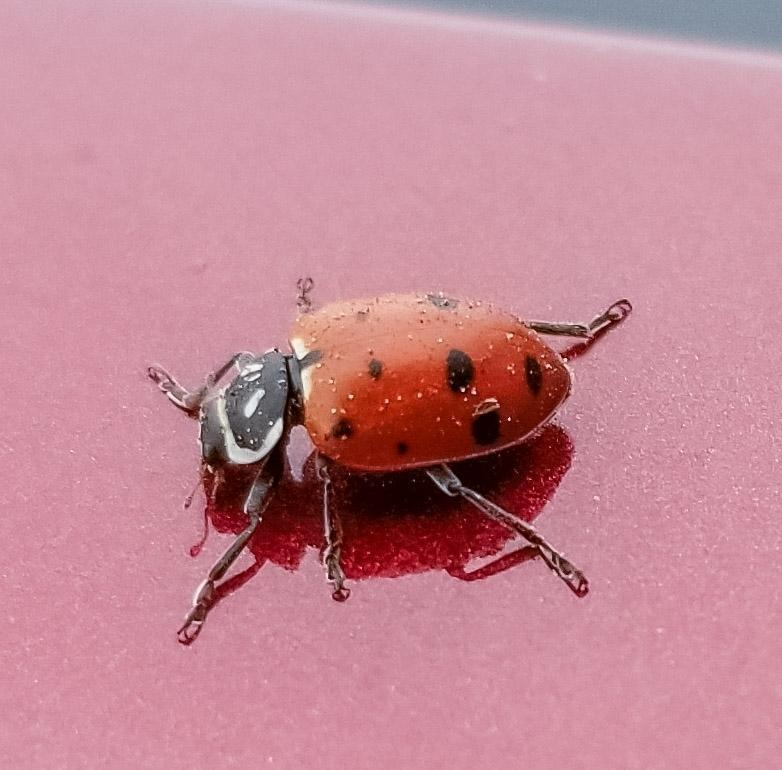ladybug: (141, 263, 645, 657)
